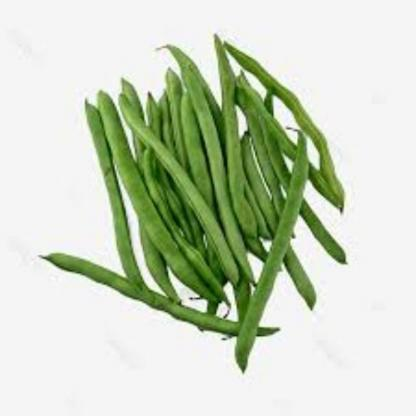fasol: (37, 23, 356, 377)
